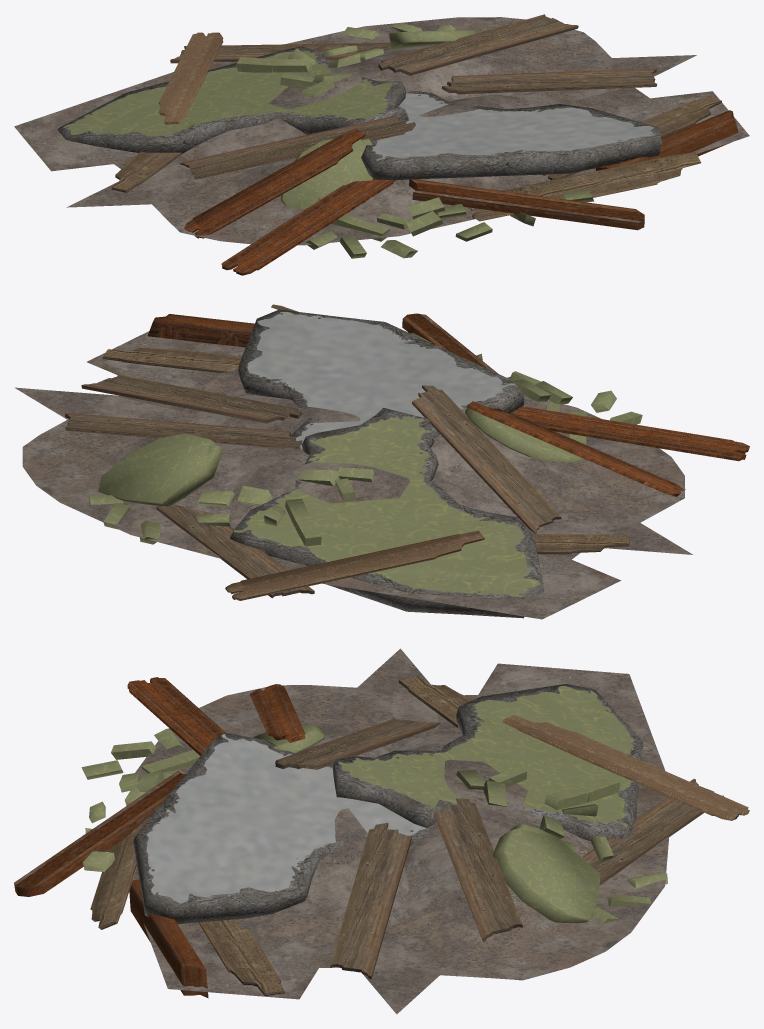
File: Westwind.fbx
The picture shows the model from 3 angles, top to bottom: view 1: azimuth 30°, elevation 25°; view 2: azimuth 150°, elevation 25°; view 3: azimuth 270°, elevation 25°; orthographic projection. The views are drawn at different scales.
Visible parts, largest first — view 1: SM_Ecl_WestWing2ndCorridor_W_9AB_Debris_01.mo; view 2: SM_Ecl_WestWing2ndCorridor_W_9AB_Debris_01.mo; view 3: SM_Ecl_WestWing2ndCorridor_W_9AB_Debris_01.mo.
Boxes of the visible parts, left/top/right/bottom form: SM_Ecl_WestWing2ndCorridor_W_9AB_Debris_01.mo: left=14, top=14, right=749, bottom=275; SM_Ecl_WestWing2ndCorridor_W_9AB_Debris_01.mo: left=14, top=304, right=749, bottom=619; SM_Ecl_WestWing2ndCorridor_W_9AB_Debris_01.mo: left=14, top=648, right=749, bottom=1014.
Size of the model in its own units: 399 by 40.31 by 339.
